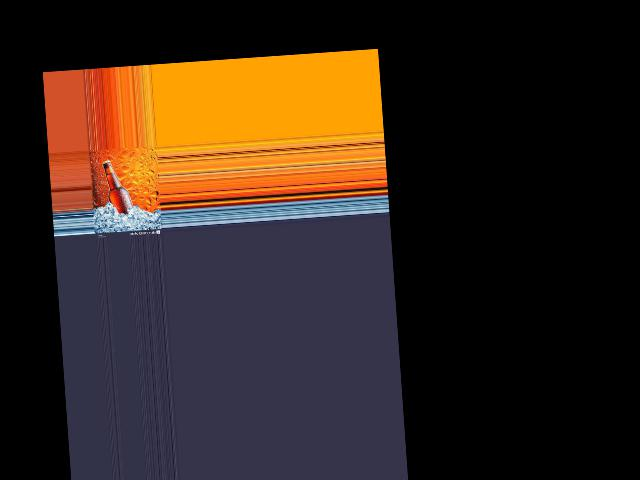beer: (100, 158, 133, 216)
